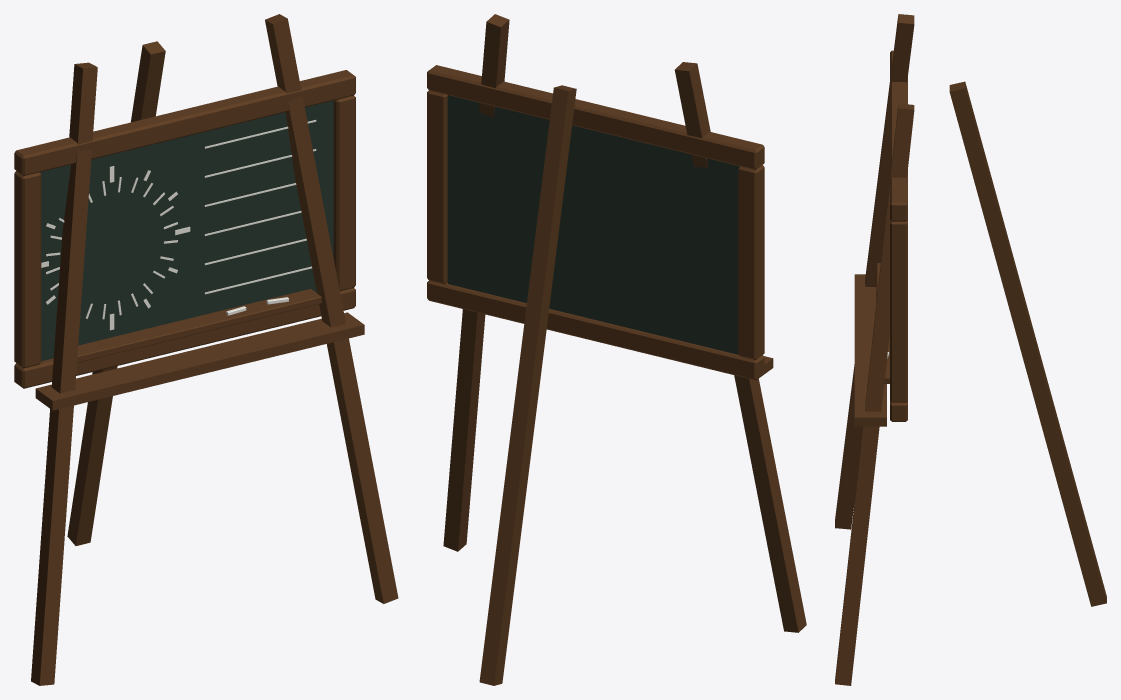
File: Prop_YTM_SetListChalkboard.glb
The picture shows the model from 3 angles, left to right: view 1: azimuth 30°, elevation 25°; view 2: azimuth 150°, elevation 25°; view 3: azimuth 270°, elevation 25°; orthographic projection. The views are drawn at different scales.
Parts seen in each view (by area): view 1: Prop_YTM_SetListChalkboard; view 2: Prop_YTM_SetListChalkboard; view 3: Prop_YTM_SetListChalkboard.
Part boxes in pixels (left/top/right/bottom): Prop_YTM_SetListChalkboard: left=14, top=14, right=398, bottom=685; Prop_YTM_SetListChalkboard: left=427, top=14, right=806, bottom=685; Prop_YTM_SetListChalkboard: left=835, top=14, right=1106, bottom=685.
Size of what is drawn, in the model's own units: 0.9678 by 1.49 by 0.6731.
